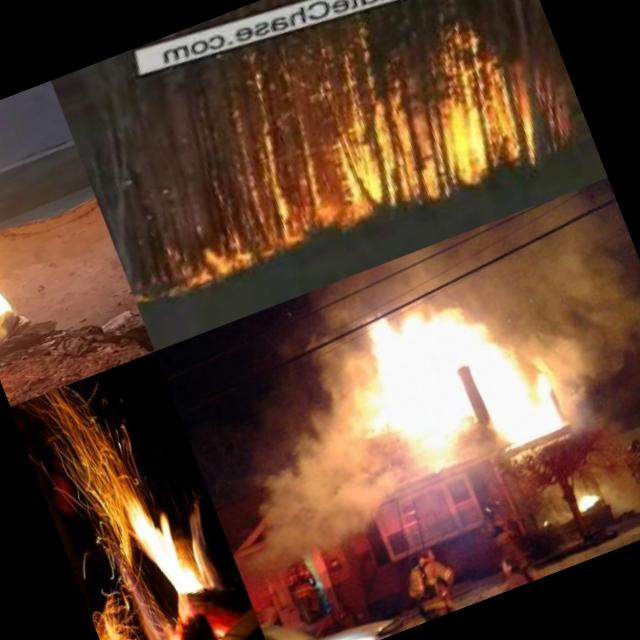fire: (310, 35, 550, 224), (56, 476, 258, 640), (348, 288, 488, 470), (448, 278, 572, 454), (180, 182, 324, 287), (0, 128, 44, 407), (569, 483, 606, 518)
smoke: (190, 323, 422, 575), (507, 214, 640, 434)
